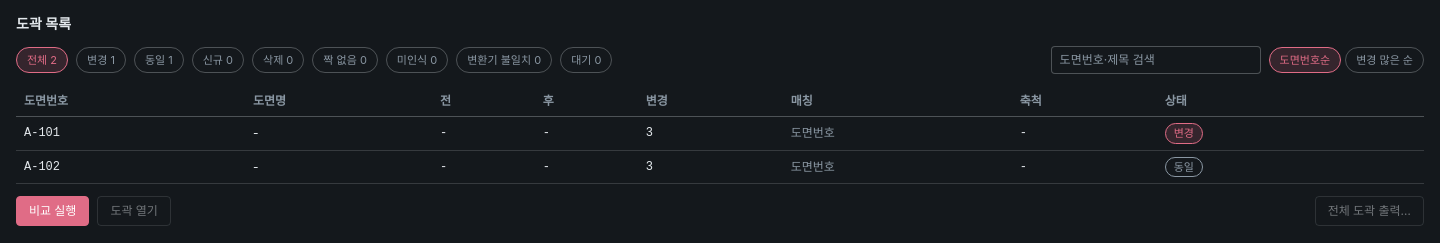
it: SheetListScreen › the status filter chips narrow the visible rows
Click the button "동일 1" at (159, 60), box [134,47,184,73]
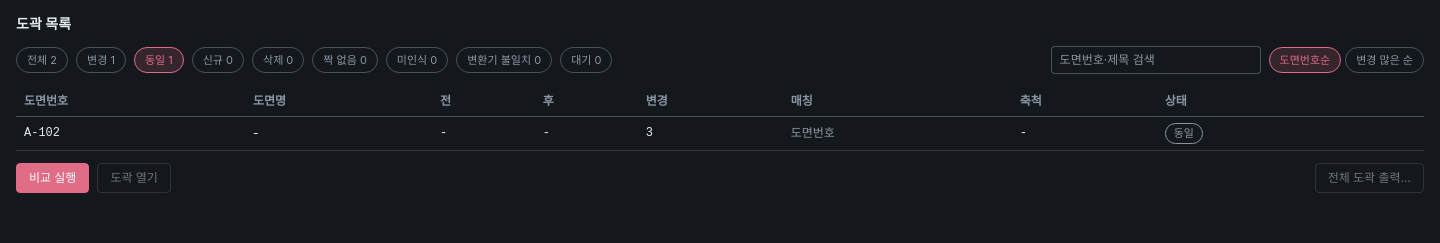
Expected: the text "A-102" is shown, [16,116,245,150]
Now the text "A-101" is gone
